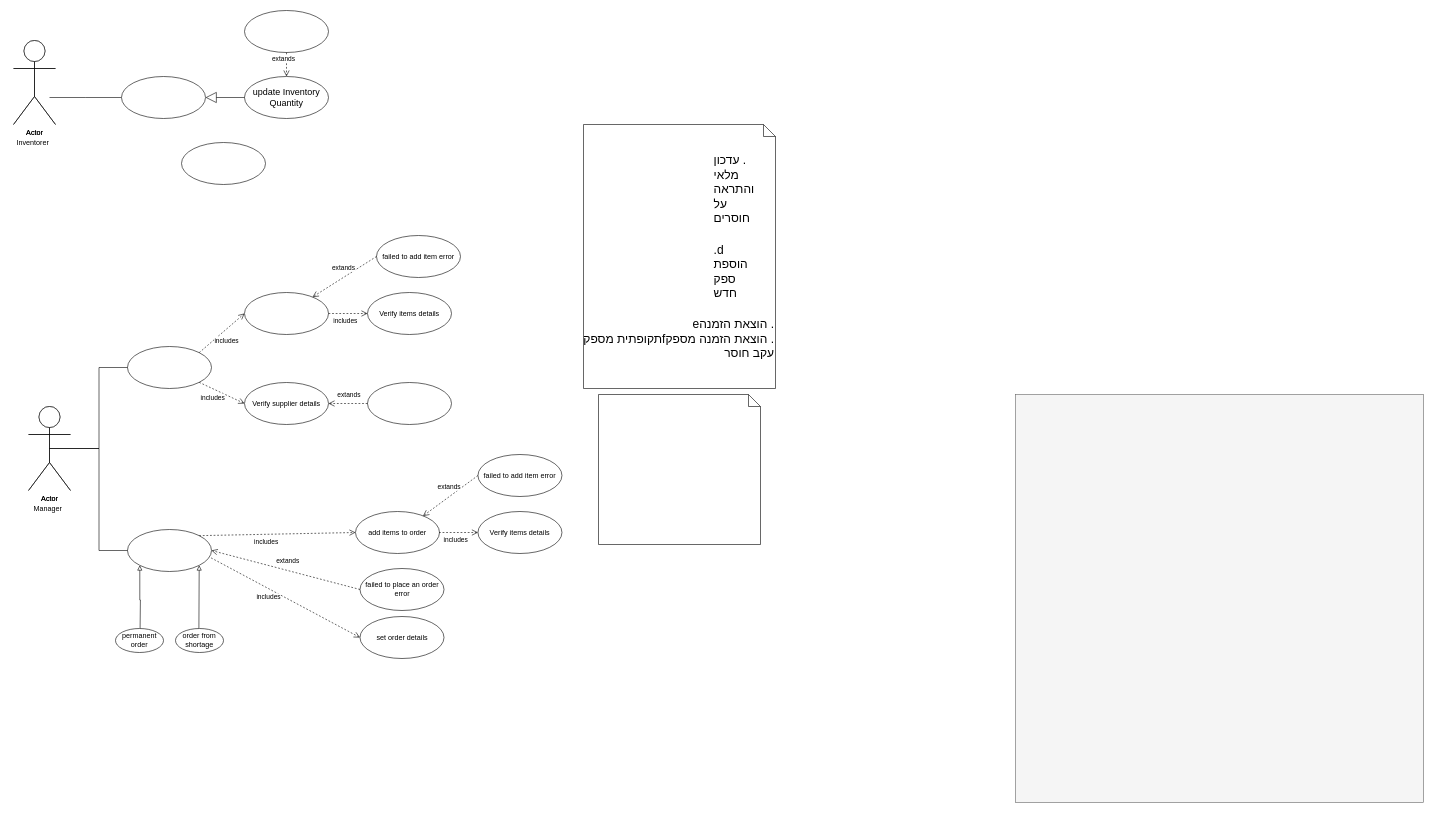
The diagram is 1434 pixels wide and 813 high, and some of its shapes have lost their labels. The centre of each missing label's shape, as x and y in pixels:
add items to supplier agreement: the point at 286,313
Add Suplier: the point at 169,367
Alert shortage: the point at 286,31
Item exist check: the point at 223,163
making new order -> adding the items -> when delivered -> update inventory: the point at 679,469
place an order: the point at 169,550
Supplier input error: the point at 409,403
update Inventory: the point at 163,97
